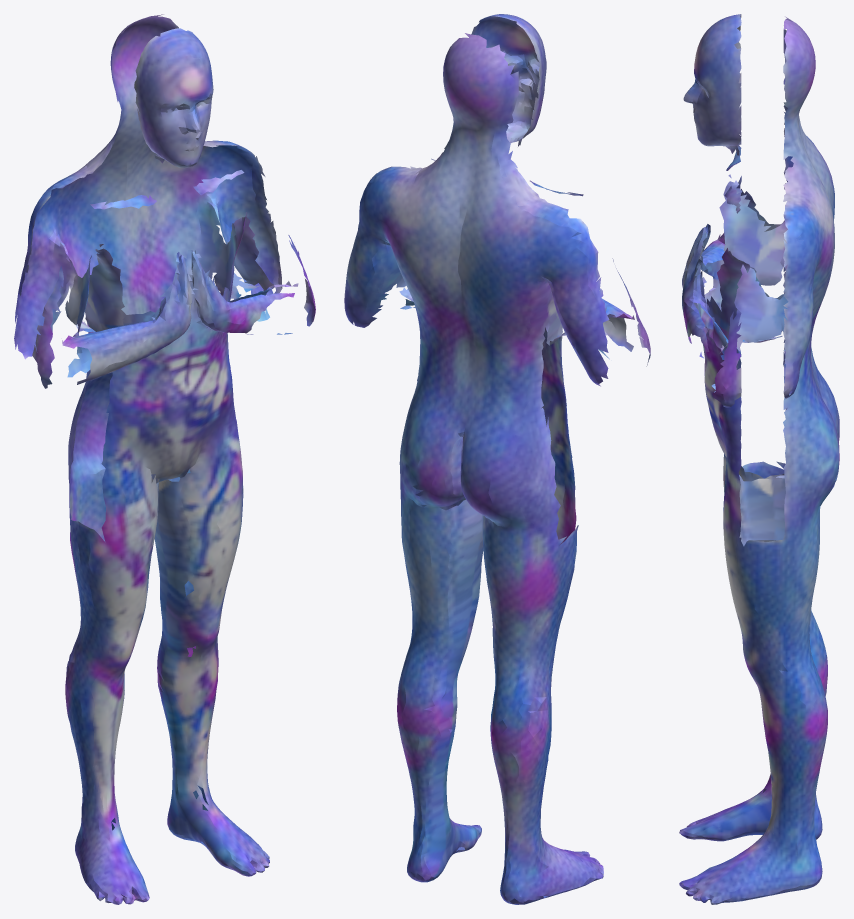
File: nebula-human.glb
3 renders of one model, left to right at view 1: azimuth 30°, elevation 25°; view 2: azimuth 150°, elevation 25°; view 3: azimuth 270°, elevation 25°, orthographic.
Visible parts, largest first — view 1: NebulaHumanFigure; view 2: NebulaHumanFigure; view 3: NebulaHumanFigure.
Part boxes in pixels (x1,y1,x2,y2): NebulaHumanFigure: (14, 14, 315, 904); NebulaHumanFigure: (344, 14, 650, 904); NebulaHumanFigure: (679, 14, 839, 904).
Size of the model in its own units: 0.6502 by 1.89 by 0.3251.
1 material, 1 textured.
